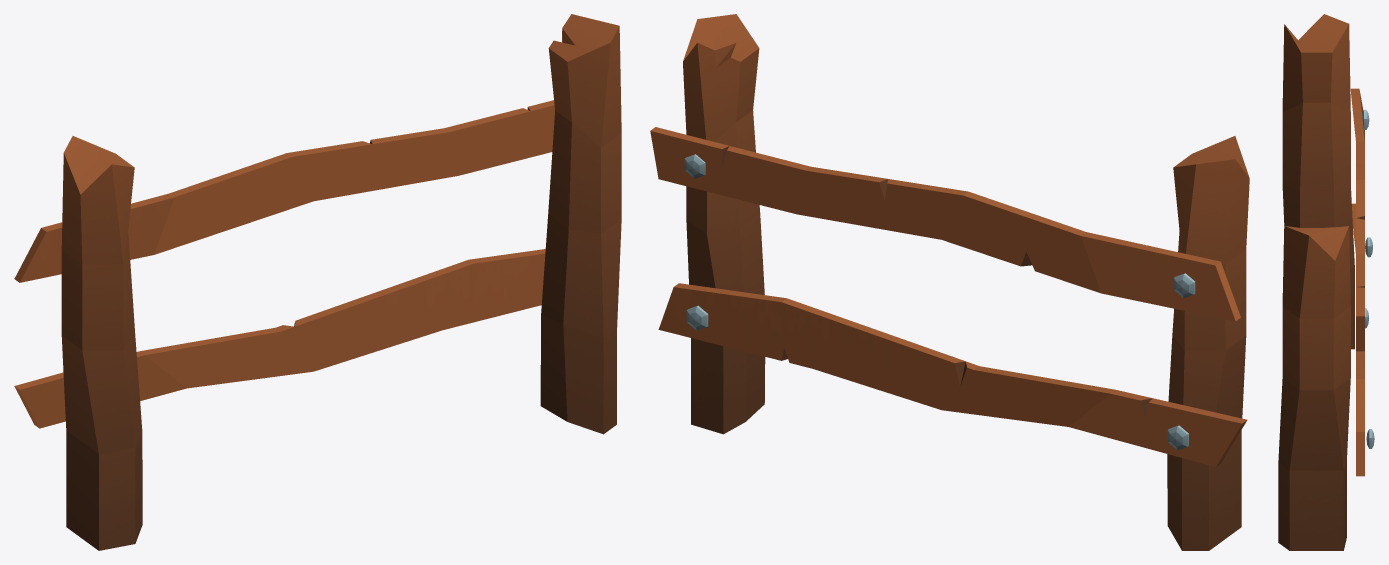
Rendered from cerca.fbx.
3 renders of one model, left to right at view 1: azimuth 30°, elevation 25°; view 2: azimuth 150°, elevation 25°; view 3: azimuth 270°, elevation 25°, orthographic. The views are drawn at different scales.
Visible parts, largest first — view 1: Sphere.003; view 2: Sphere.003; view 3: Sphere.003.
Boxes of the visible parts, left/top/right/bottom form: Sphere.003: left=14, top=14, right=621, bottom=550; Sphere.003: left=650, top=14, right=1249, bottom=550; Sphere.003: left=1278, top=14, right=1374, bottom=550.
Bounding box in the file's own units: 737 × 462 × 126.
Materials: 2 (2 with a texture image).
